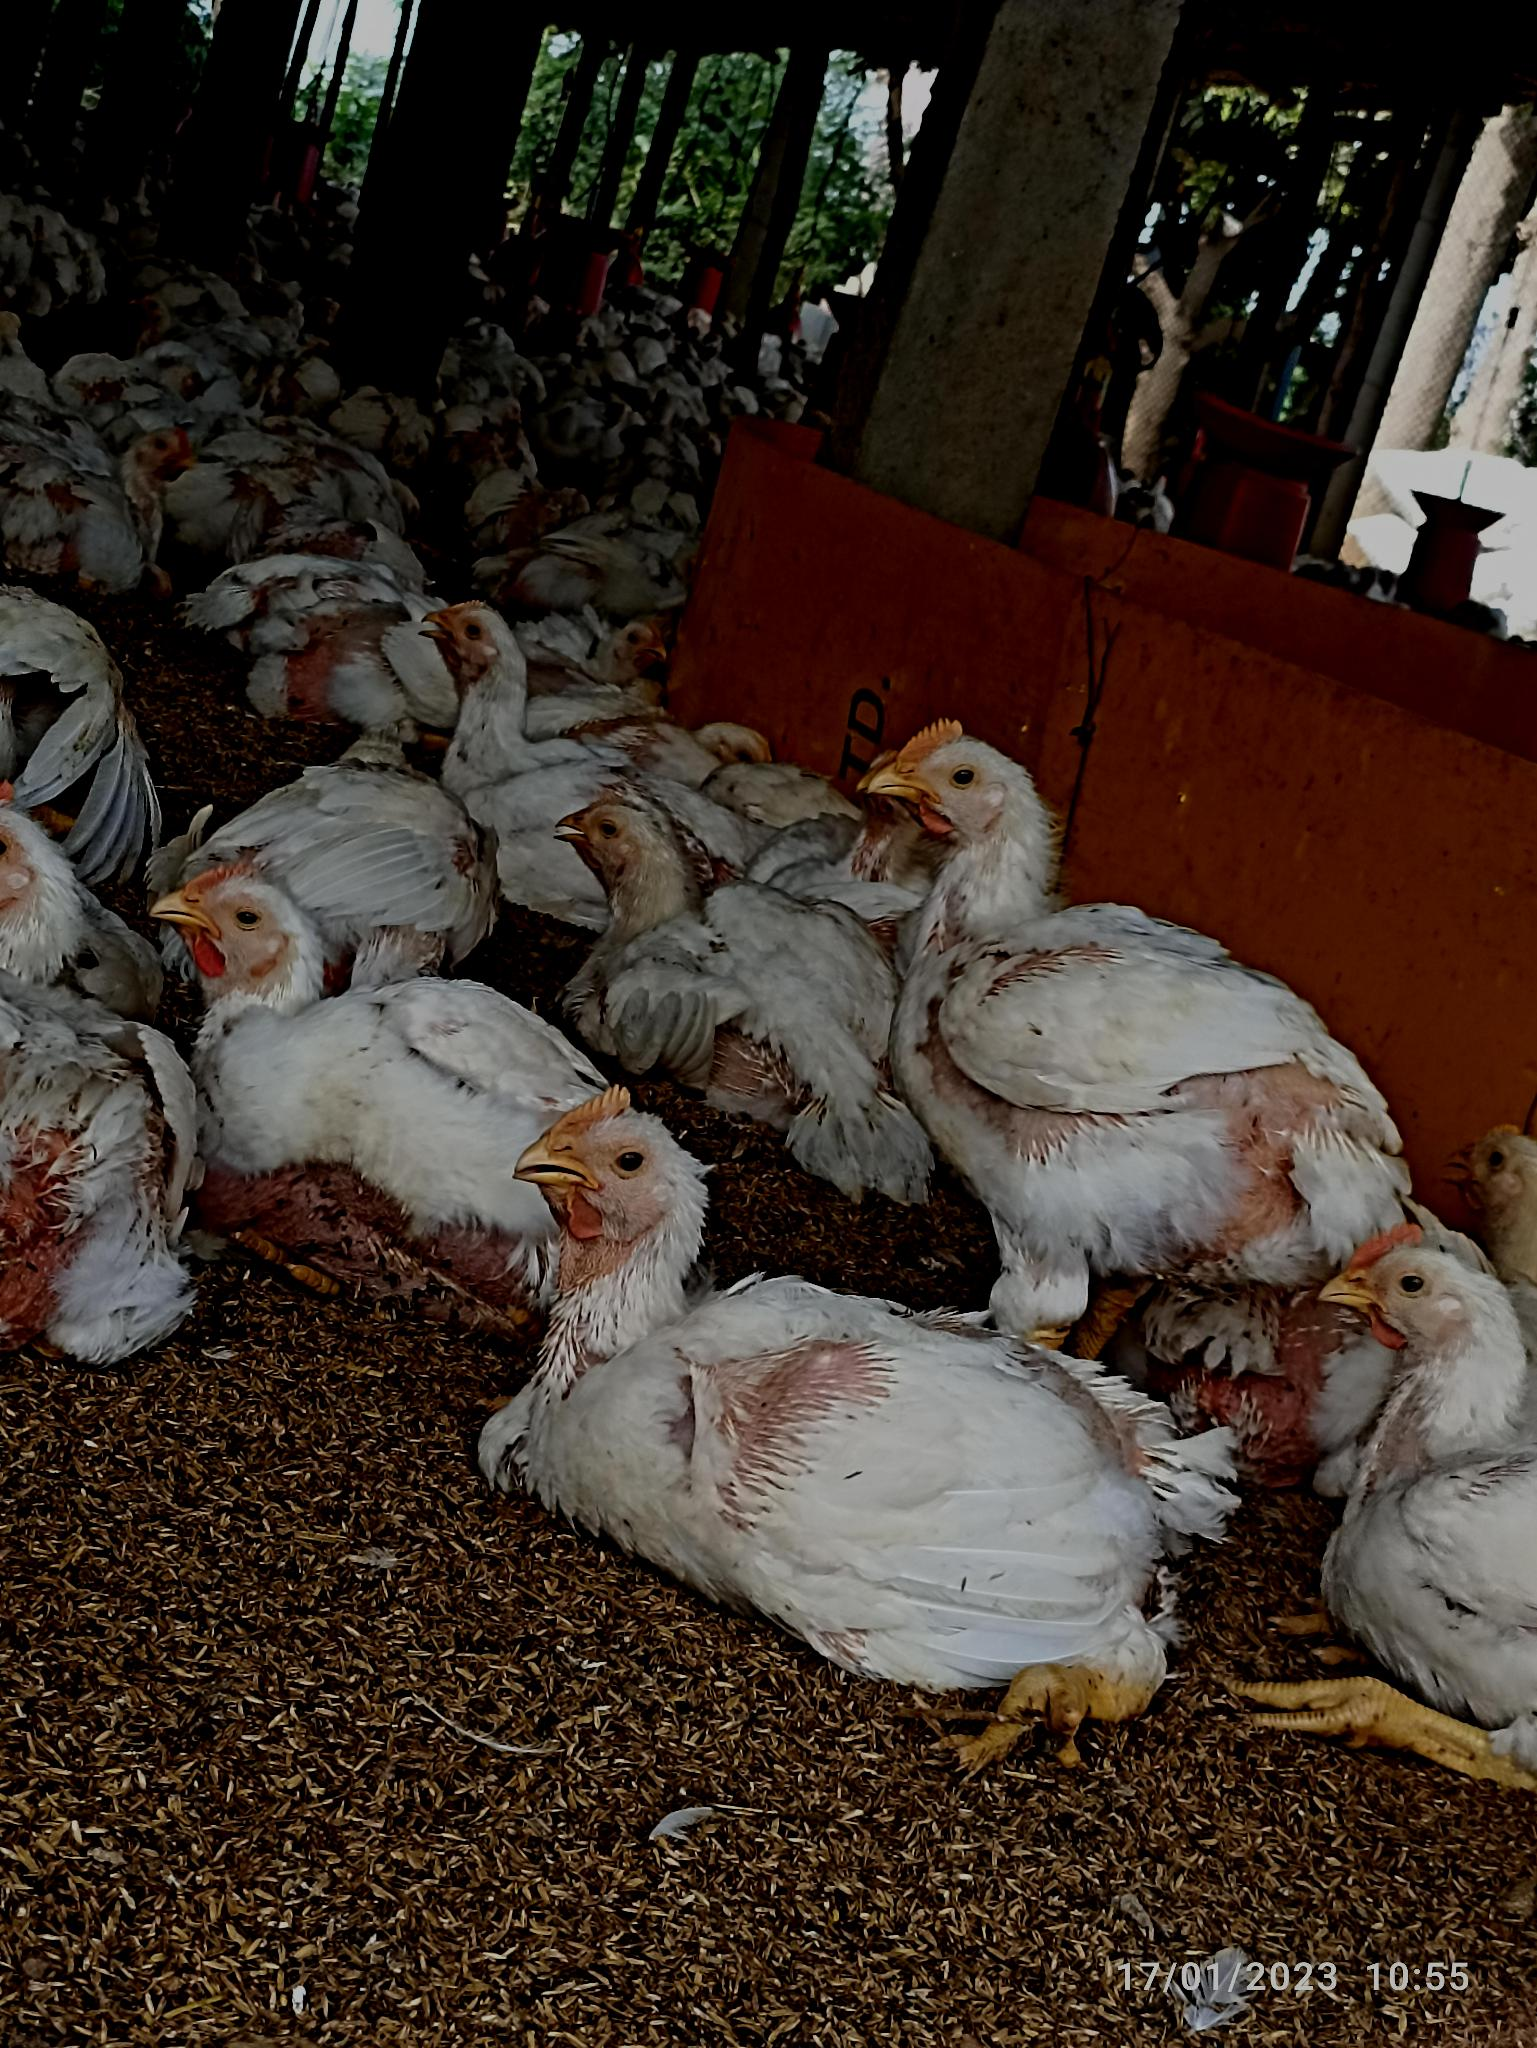Pollos: (512, 1081, 1212, 1683), (869, 718, 1421, 1218), (157, 862, 518, 1239), (1337, 1231, 1537, 1761), (551, 800, 859, 1091), (412, 592, 651, 788), (2, 423, 203, 600)
